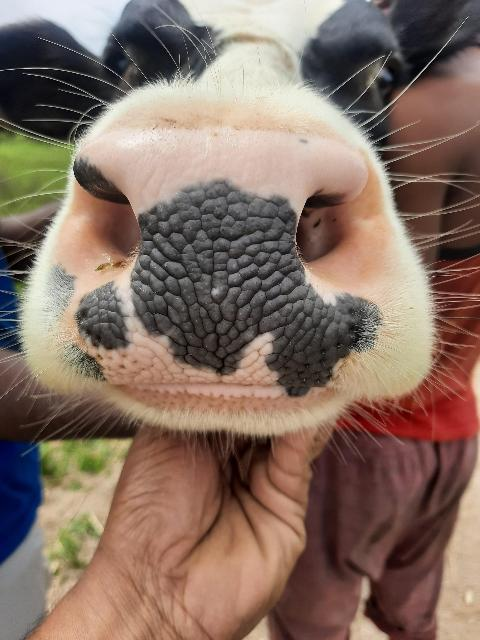Muzzle: (103, 140, 334, 394)
